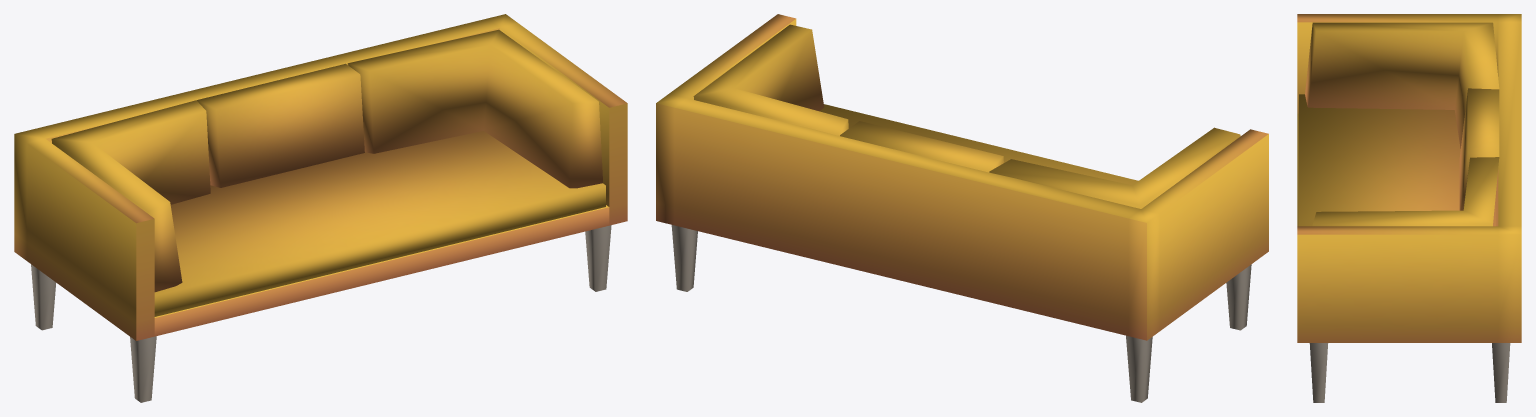
File: Couch2.FBX
3 renders of one model, left to right at view 1: azimuth 30°, elevation 25°; view 2: azimuth 150°, elevation 25°; view 3: azimuth 270°, elevation 25°, orthographic. The views are drawn at different scales.
Parts seen in each view (by area): view 1: Orange Couch; view 2: Orange Couch; view 3: Orange Couch.
Boxes of the visible parts, <box> form: Orange Couch: <box>14,14,627,402</box>; Orange Couch: <box>656,14,1268,402</box>; Orange Couch: <box>1297,14,1521,402</box>.
Bounding box in the file's own units: 78.73 × 29.52 × 33.84.
